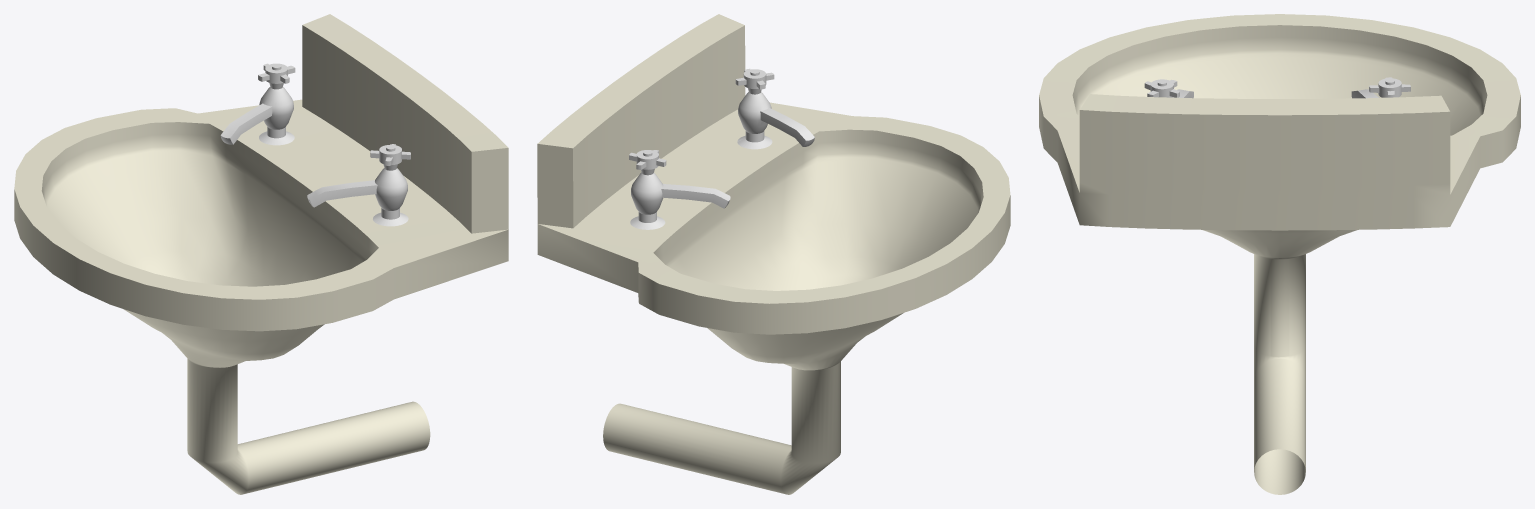
Rendered from Sink.fbx.
3 renders of one model, left to right at view 1: azimuth 30°, elevation 25°; view 2: azimuth 150°, elevation 25°; view 3: azimuth 270°, elevation 25°, orthographic. The views are drawn at different scales.
Parts seen in each view (by area): view 1: Cylinder.008, Cylinder.010, Cylinder.009; view 2: Cylinder.008, Cylinder.009, Cylinder.010; view 3: Cylinder.008, Cylinder.009, Cylinder.010.
Boxes of the visible parts, left/top/right/bottom form: Cylinder.008: left=14, top=14, right=508, bottom=494; Cylinder.010: left=307, top=144, right=410, bottom=226; Cylinder.009: left=220, top=63, right=295, bottom=145; Cylinder.008: left=537, top=14, right=1010, bottom=494; Cylinder.009: left=629, top=150, right=730, bottom=229; Cylinder.010: left=735, top=68, right=814, bottom=149; Cylinder.008: left=1039, top=14, right=1520, bottom=494; Cylinder.009: left=1351, top=77, right=1410, bottom=98; Cylinder.010: left=1144, top=79, right=1193, bottom=98.
Bounding box in the file's own units: 184 × 179 × 205.
